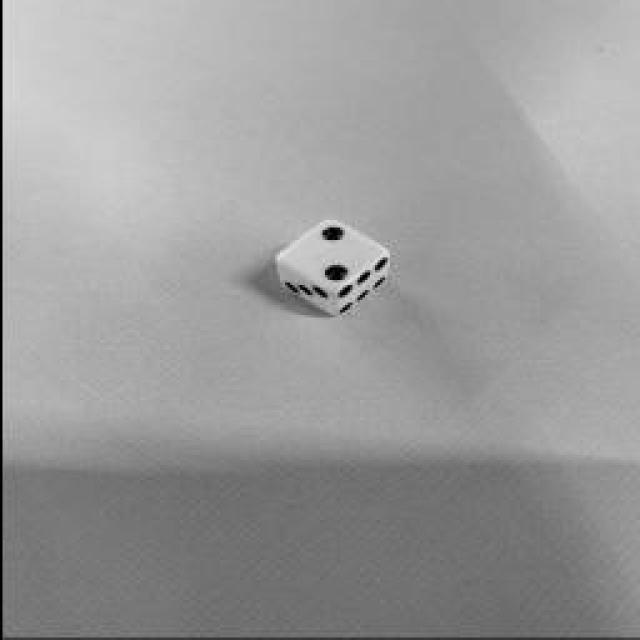dice_2: (274, 219, 384, 291)
